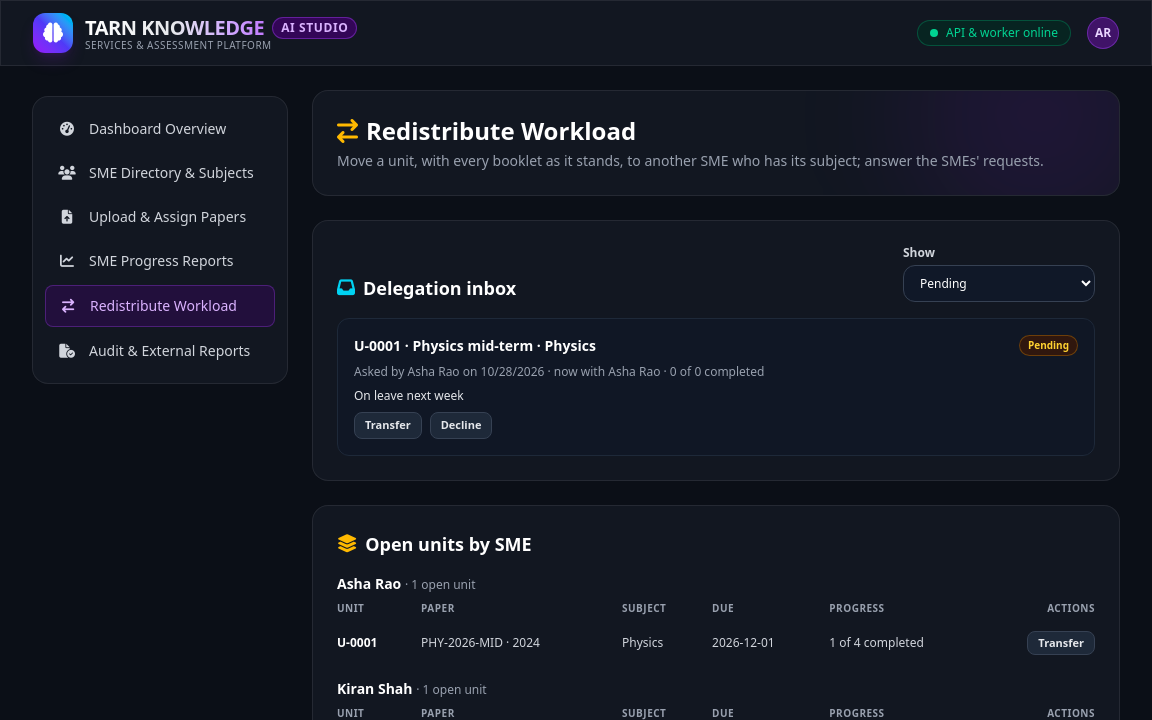
Test: Redistribute Workload › answers the inbox: transfer prefilled with the request, or decline with a note
Check: the text "On leave next week" is shown, box [354, 387, 464, 404]
Check: the text "Pending" is shown, box [1019, 335, 1078, 356]
Click the button "Transfer" below "Physics mid-term": (388, 425) [354, 412, 422, 438]
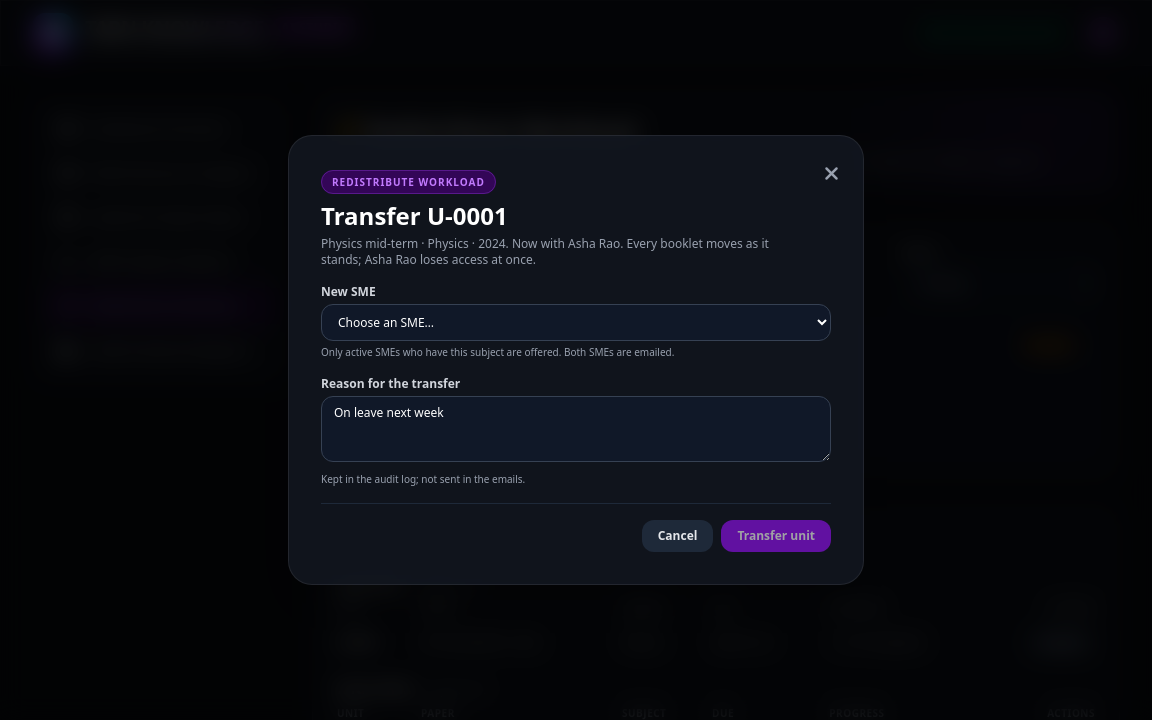
Check: the text box labelled "Reason for the transfer" holds "On leave next week", box [321, 396, 831, 462]
Click the button "Cancel": (678, 536) [642, 520, 713, 552]
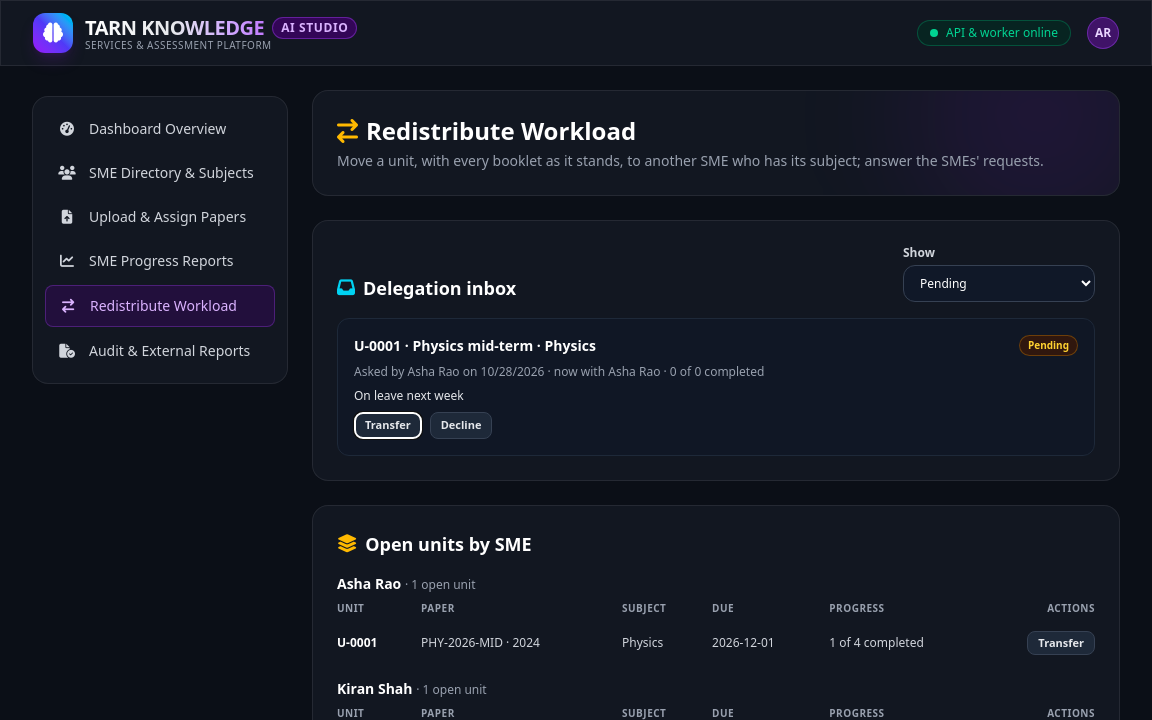
Click the button "Decline": (461, 425) [430, 412, 492, 438]
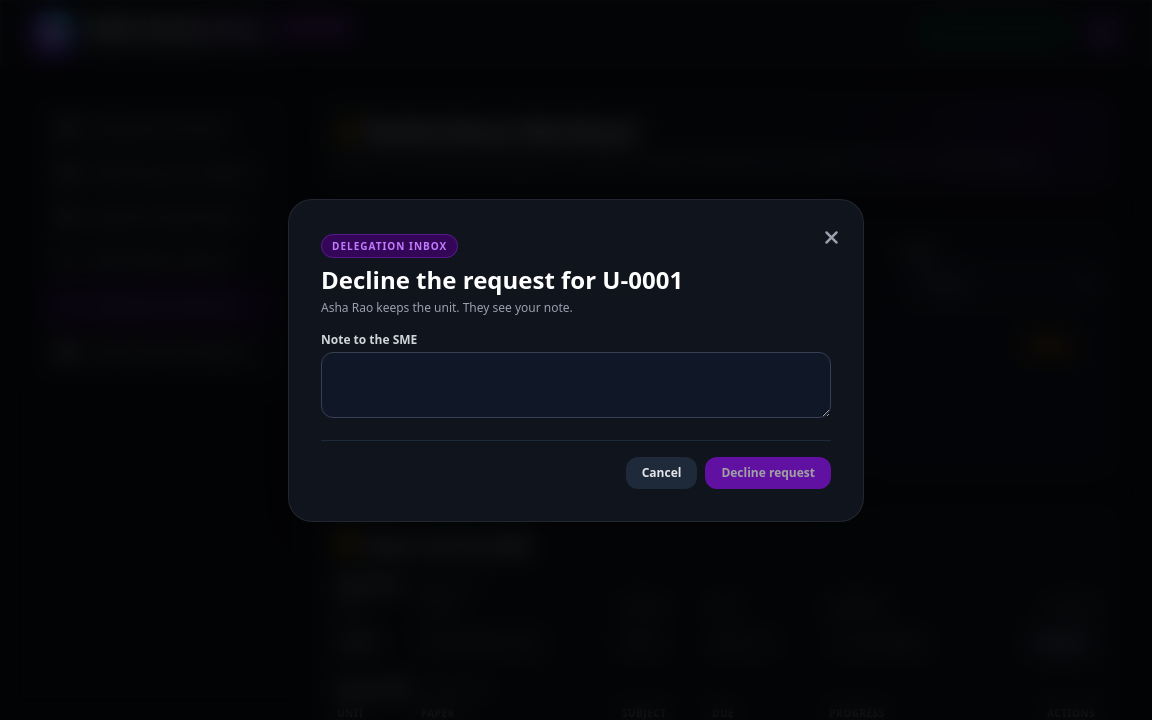
In the text box labelled "Note to the SME": (576, 384) [321, 352, 831, 418], type "Nobody free"
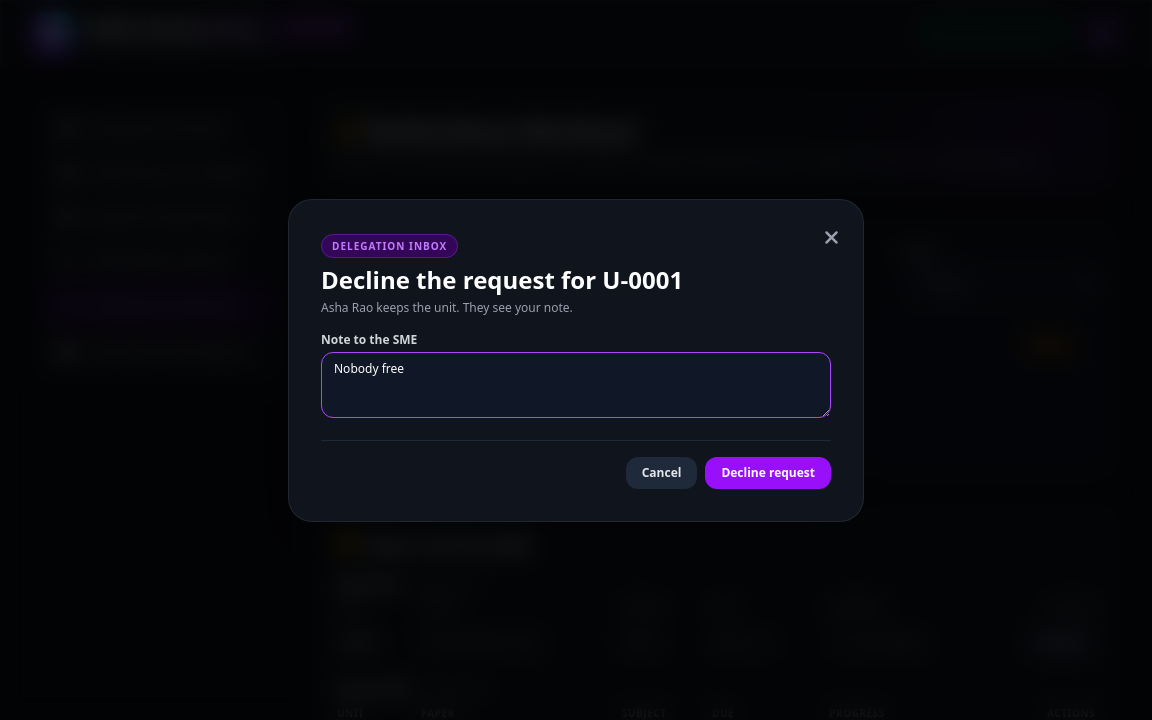
Click the button "Decline request": (768, 472) [705, 456, 831, 488]
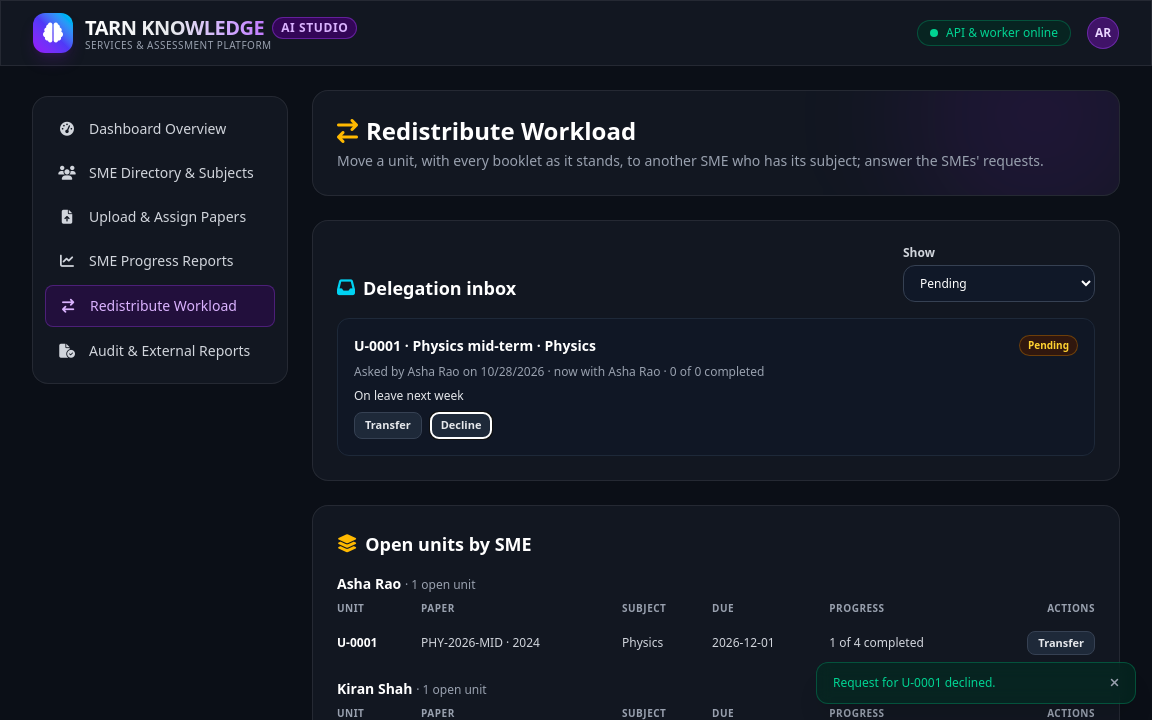
Check: the text "Request for U-0001 declined." is shown, box [833, 674, 996, 691]
